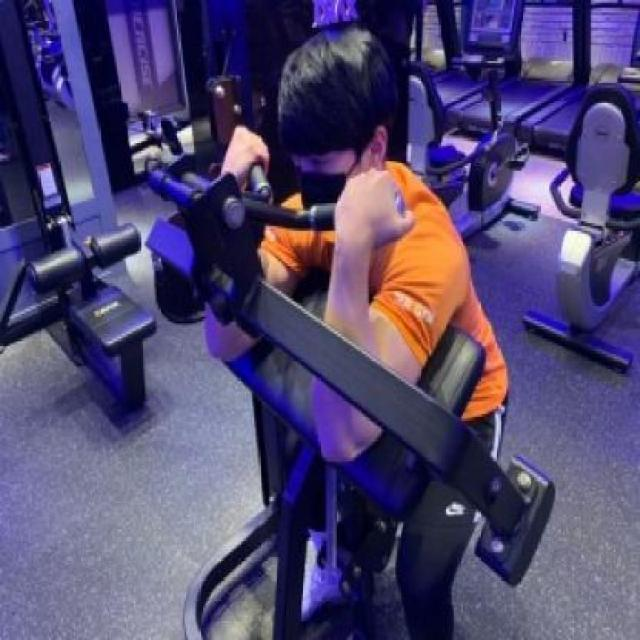arm curl machine: (150, 151, 552, 640)
